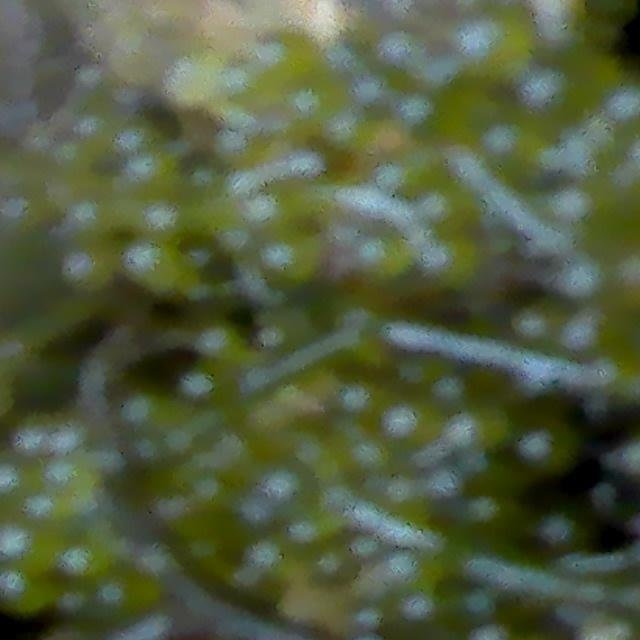SeaGrape: (514, 58, 601, 136), (457, 5, 533, 84), (479, 116, 546, 175), (258, 230, 319, 287), (258, 27, 315, 85), (124, 241, 185, 295), (352, 225, 411, 275), (0, 566, 55, 619), (0, 522, 56, 573), (388, 150, 447, 197), (421, 189, 479, 236), (137, 198, 192, 244), (128, 148, 183, 194), (64, 244, 115, 293), (554, 254, 604, 303), (127, 387, 174, 439), (424, 246, 475, 290), (46, 457, 93, 503), (198, 326, 254, 364), (22, 492, 73, 531), (65, 540, 109, 580), (0, 455, 31, 507)
